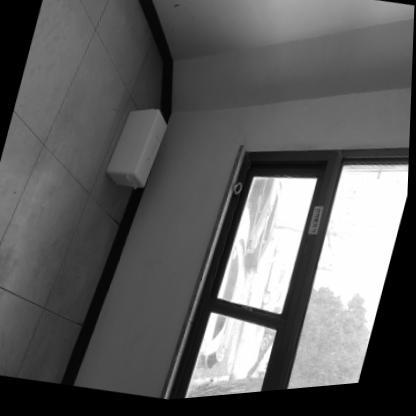DDL: (104, 104, 170, 197)
